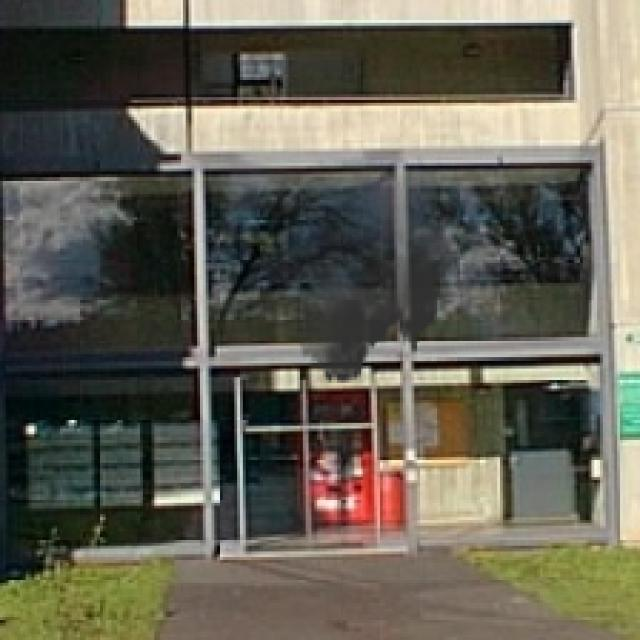smoke: (254, 146, 457, 394)
